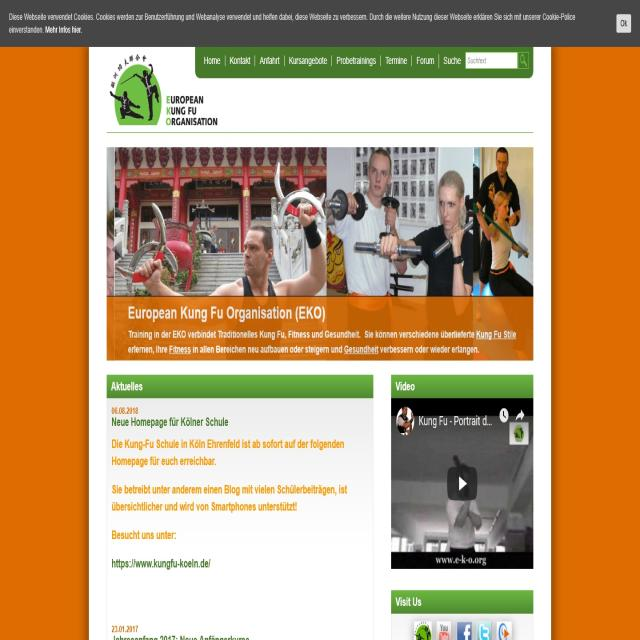button: (332, 48, 379, 77), (285, 49, 331, 75), (448, 468, 478, 498), (380, 49, 411, 76), (412, 48, 438, 76), (255, 48, 284, 73), (439, 48, 464, 77), (227, 48, 254, 74), (196, 50, 226, 72), (415, 619, 431, 640), (496, 619, 512, 640), (457, 619, 472, 640), (476, 621, 492, 640), (616, 15, 632, 32), (436, 622, 451, 640), (520, 53, 530, 70)
field: (465, 53, 518, 69)
heading: (124, 298, 328, 324), (165, 91, 220, 131), (110, 378, 144, 395), (393, 593, 423, 610), (396, 379, 417, 393)
iframe: (0, 0, 640, 46)
image: (106, 150, 534, 296), (392, 399, 533, 571), (105, 54, 162, 128)
label: (466, 55, 487, 67)
link: (111, 555, 211, 572)
text: (127, 325, 518, 357), (110, 437, 350, 467), (110, 484, 350, 513), (111, 404, 233, 430), (109, 525, 178, 544)
